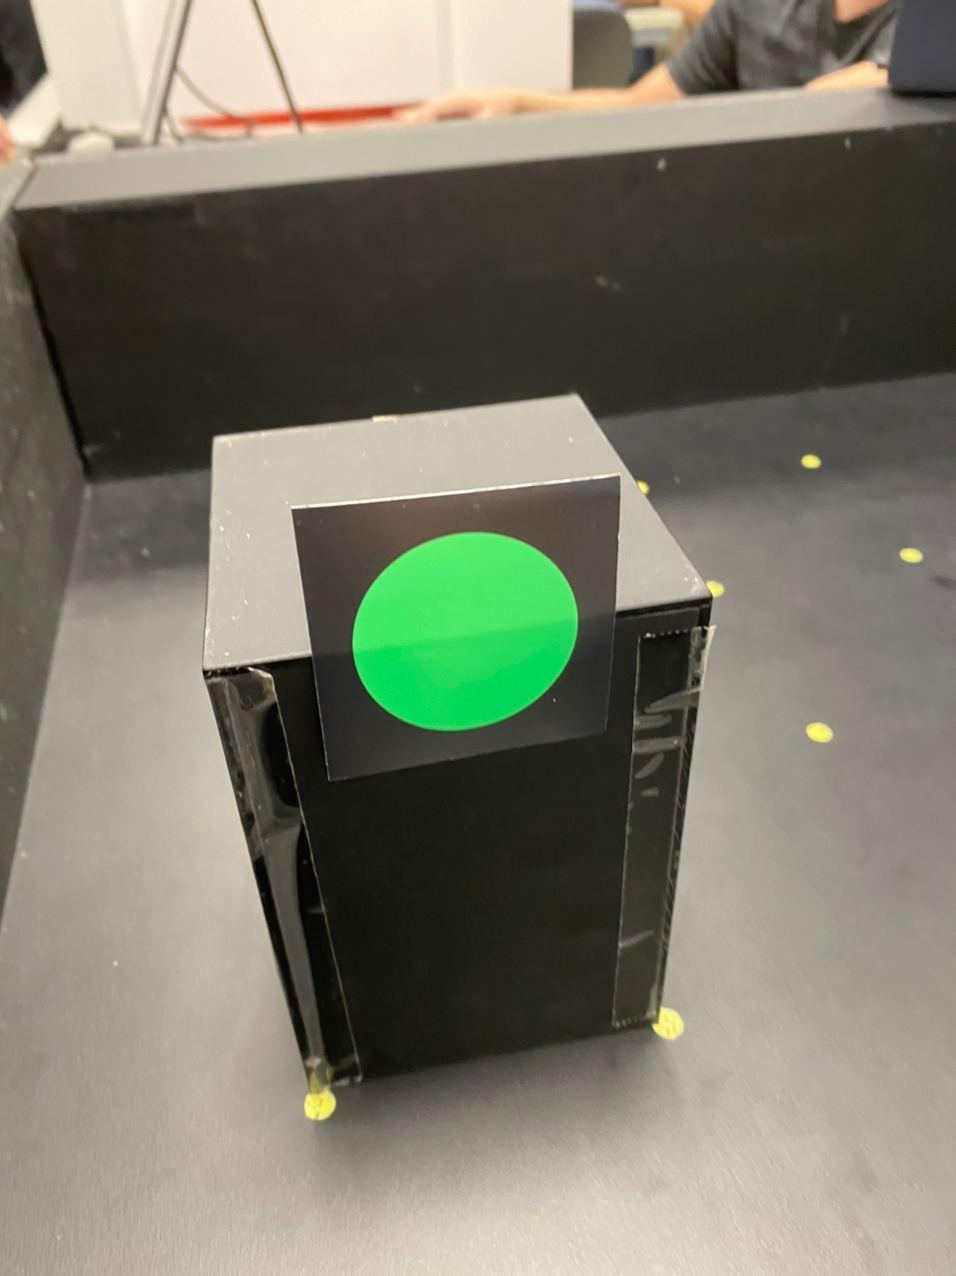go: (346, 522, 595, 729)
